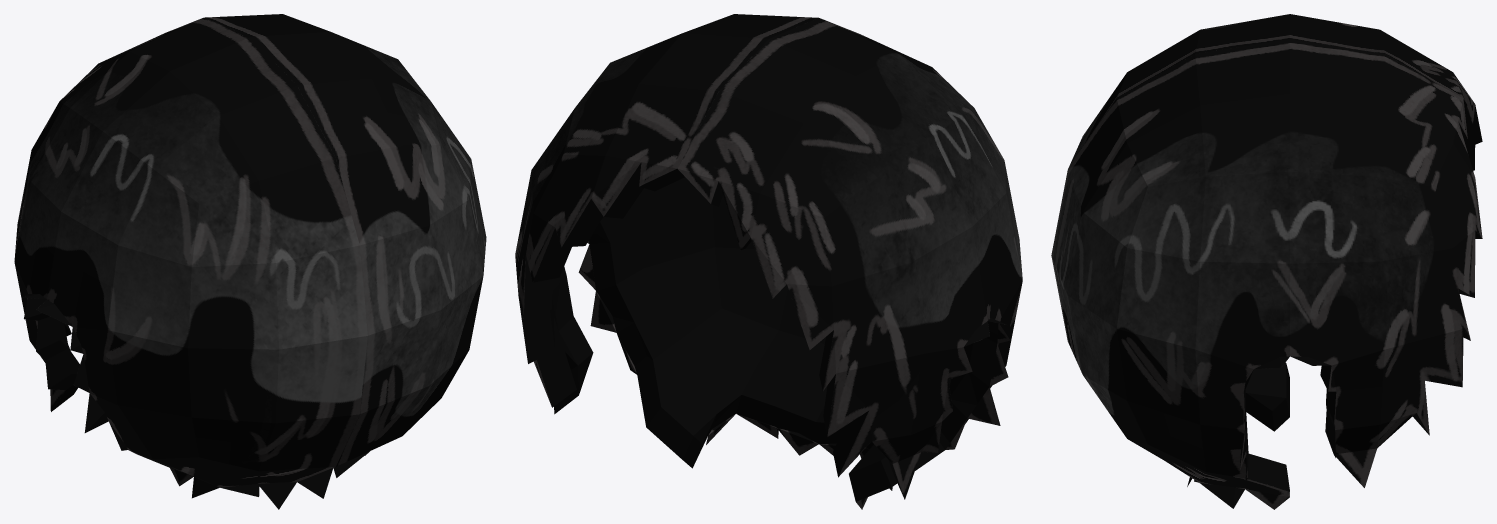
The model's file is hair_2.fbx.
3 renders of one model, left to right at view 1: azimuth 30°, elevation 25°; view 2: azimuth 150°, elevation 25°; view 3: azimuth 270°, elevation 25°, orthographic. The views are drawn at different scales.
Visible parts, largest first — view 1: Hair2; view 2: Hair2; view 3: Hair2.
Boxes of the visible parts, x1=… form: Hair2: x1=14, y1=14, x2=486, y2=509; Hair2: x1=515, y1=14, x2=1022, y2=509; Hair2: x1=1051, y1=14, x2=1482, y2=509.
Bounding box in the file's own units: 181 × 170 × 152.
